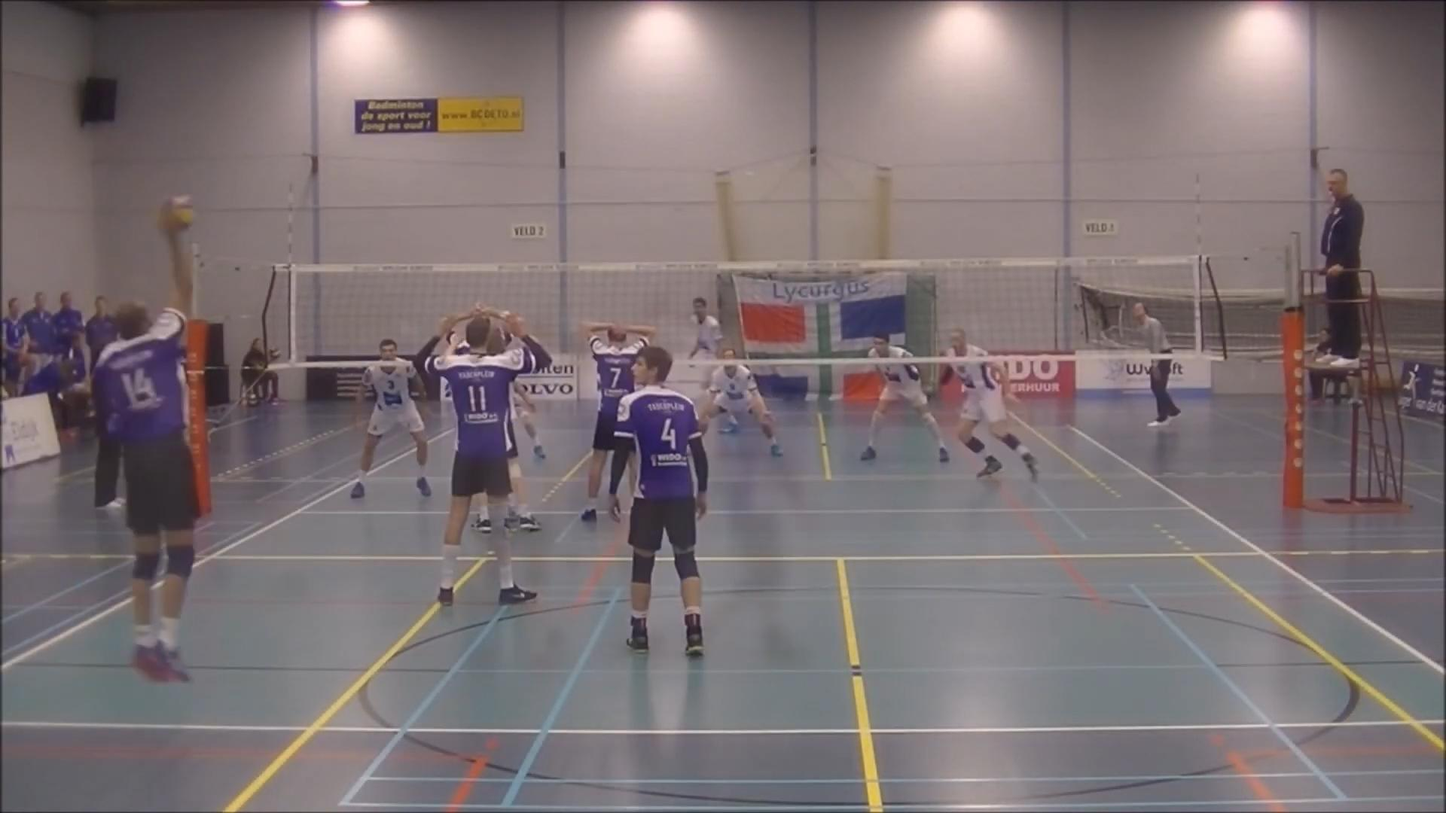Player: (416, 306, 551, 605), (609, 347, 707, 656), (581, 322, 655, 521), (945, 329, 1036, 480), (350, 339, 431, 498), (861, 334, 949, 461), (699, 348, 782, 456), (504, 419, 541, 531), (505, 422, 541, 531), (514, 383, 545, 459), (688, 297, 722, 361)
Serve: (27, 206, 257, 673)
ball: (151, 193, 200, 234)
